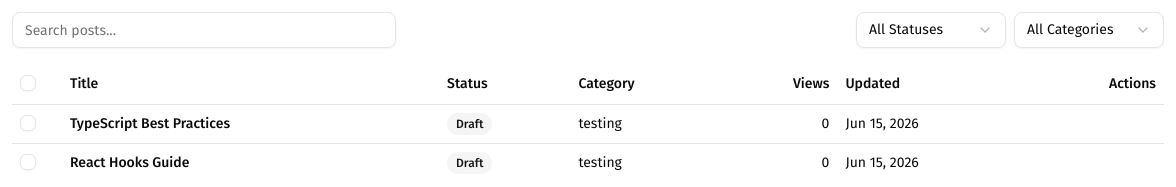
Test: BlogPostList › Search Functionality › should filter posts by title search
In the field with placeholder "Search posts...": point(204, 30) top-left (12, 12), bottom-right (396, 48), type "TypeScript"
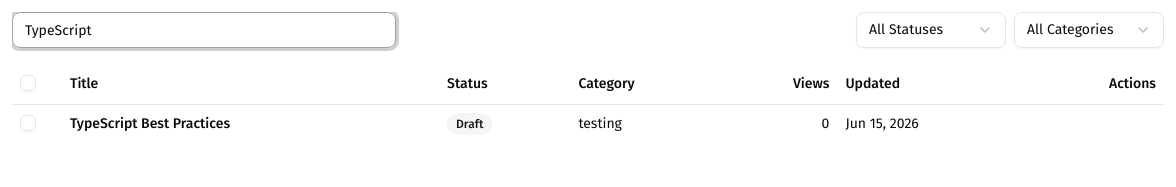
expect the text "TypeScript Best Practices" is shown: met, box top-left (62, 104), bottom-right (439, 142)
expect the text "React Hooks Guide" is gone: met
